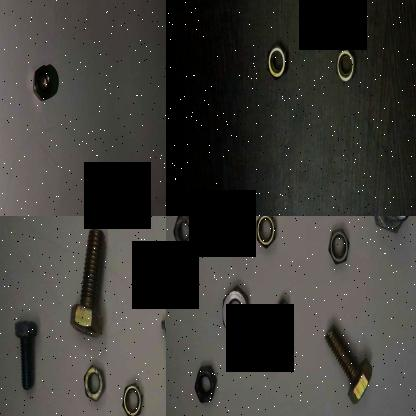Bolts: (66, 219, 114, 350), (316, 314, 374, 406), (256, 293, 294, 375), (12, 316, 44, 395), (367, 216, 412, 244), (209, 216, 248, 246), (152, 312, 166, 394)
NUTS: (218, 279, 252, 350), (257, 36, 294, 88), (78, 360, 113, 405), (330, 38, 357, 94), (322, 224, 352, 273), (192, 357, 216, 407), (171, 216, 197, 261), (251, 216, 283, 251), (29, 60, 55, 102), (119, 378, 146, 416)
